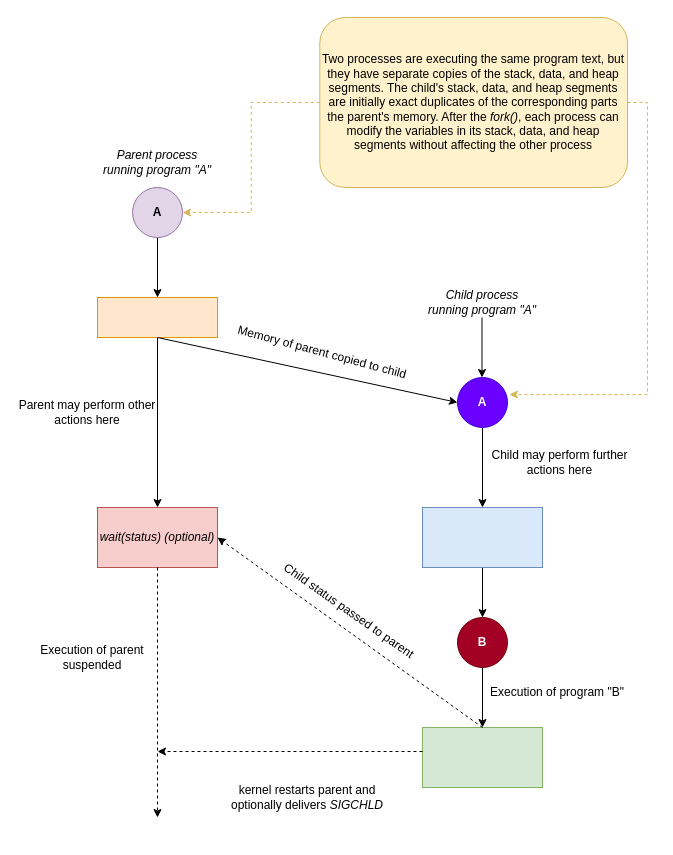
This 673x855 diagram has some shape labels left out. Each missing label, with the centre of its shape:
"execve(B, ...) (optional)" belongs at (482,537).
"exit(status)" belongs at (482,757).
"fork()" belongs at (157,317).
